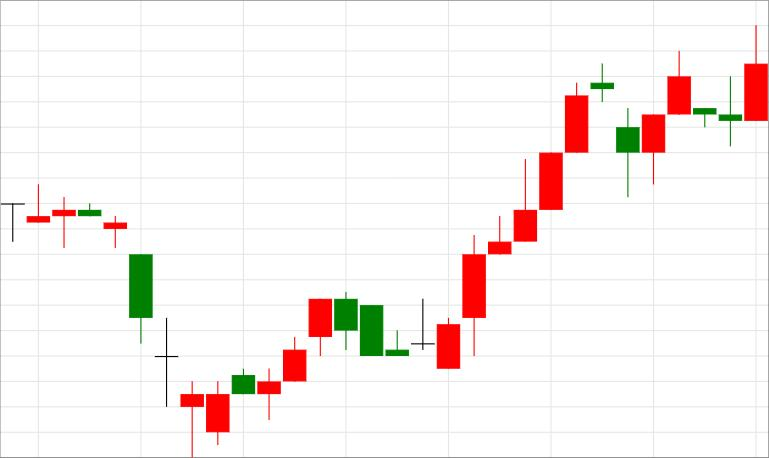evening_star_fall: (436, 64, 639, 369)
